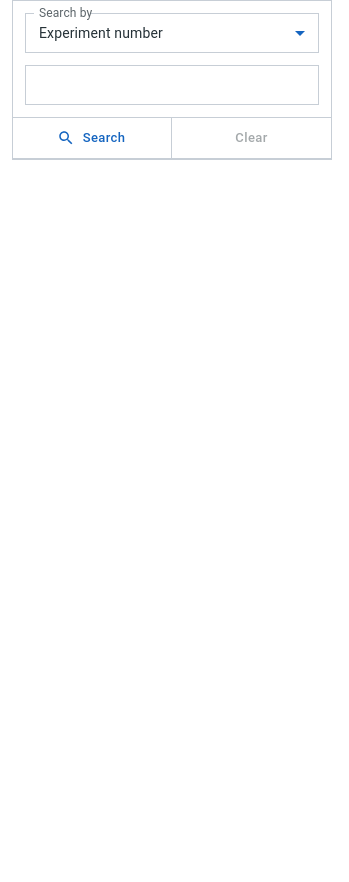
Test: ImatStackJobTree › loads another page and removes duplicate jobs
This screenshot has width=349, height=882.
Click the button "Search": (92, 138) [13, 118, 172, 158]
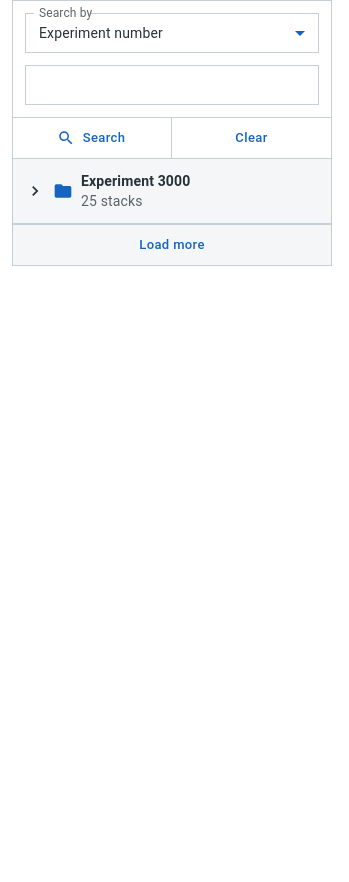
Click the button "Load more": (172, 245) [13, 225, 331, 265]
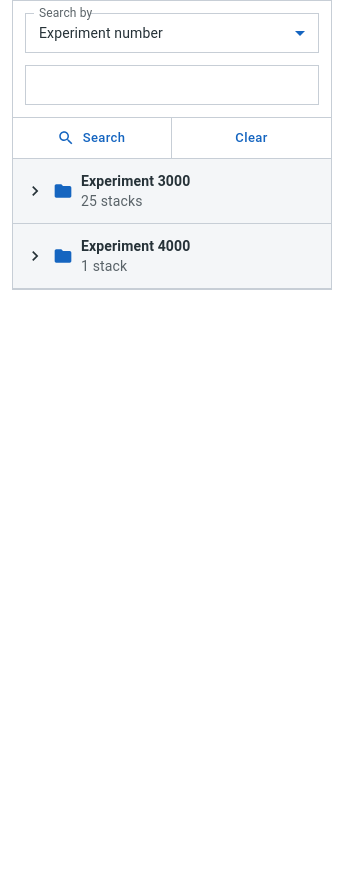
Expected: the button "Experiment 4000 1 stack" is shown, [13, 224, 331, 289]
Click the button "Experiment 3000 25 stacks": (172, 192) [13, 159, 331, 224]
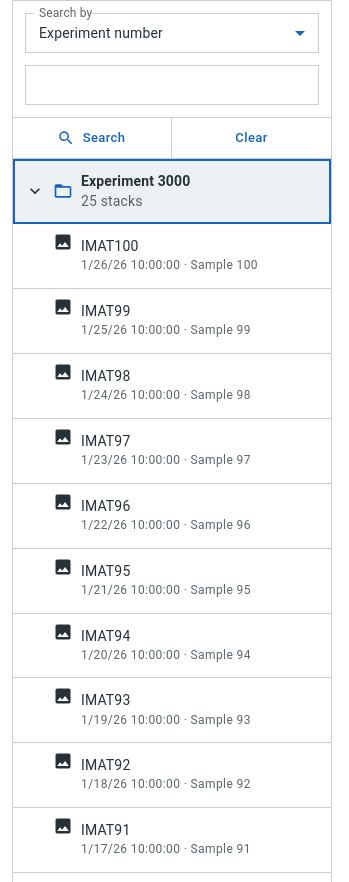
Expected: the number of buttons "IMAT100 1/26/26 10:00:00 · Sample 100" is 1, [13, 224, 331, 289]
